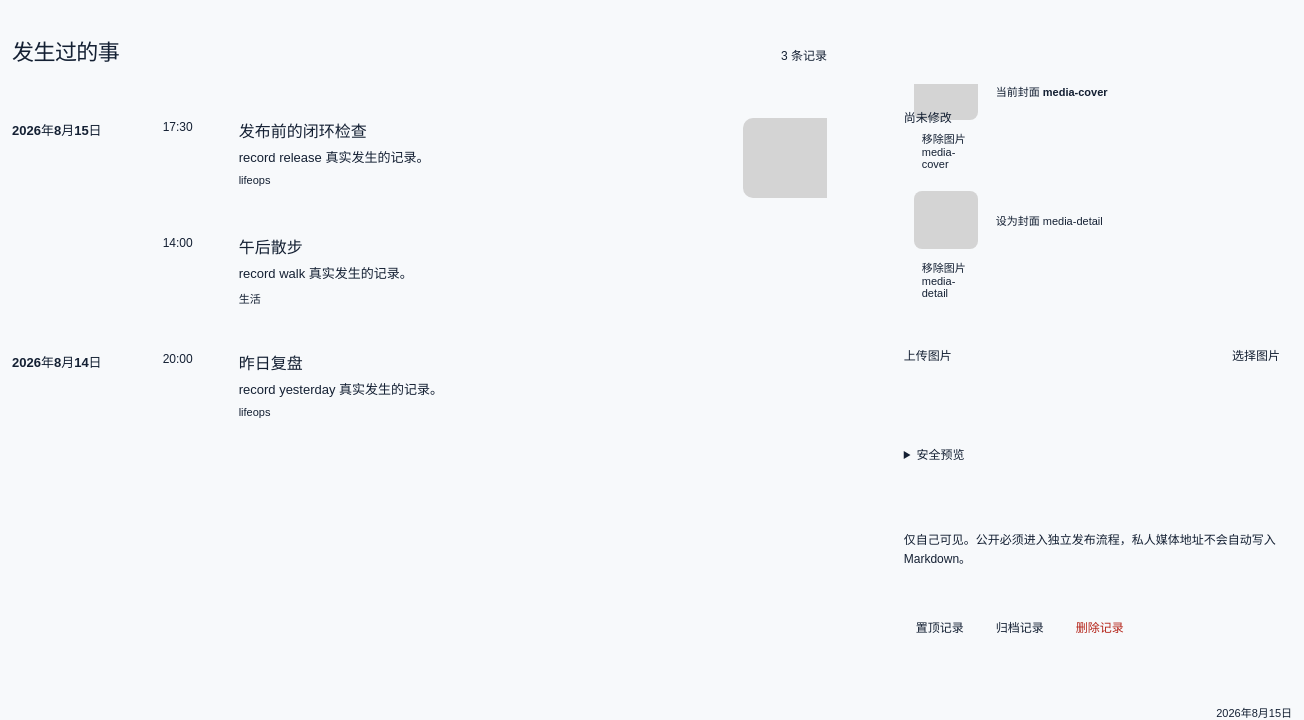
Test: RecordsPage › renders the native 8/4 date-grouped stream, selected editor, links and private cover truth
This screenshot has width=1304, height=720.
(page scrolled)
expect the element "2026年8月15日" shows "发布前的闭环检查": met, box [141,100,827,216]
expect the element "2026年8月15日" shows "午后散步": met, box [141,216,827,332]
Click the heading "安全预览" at (940, 455), box [916,448,964,462]
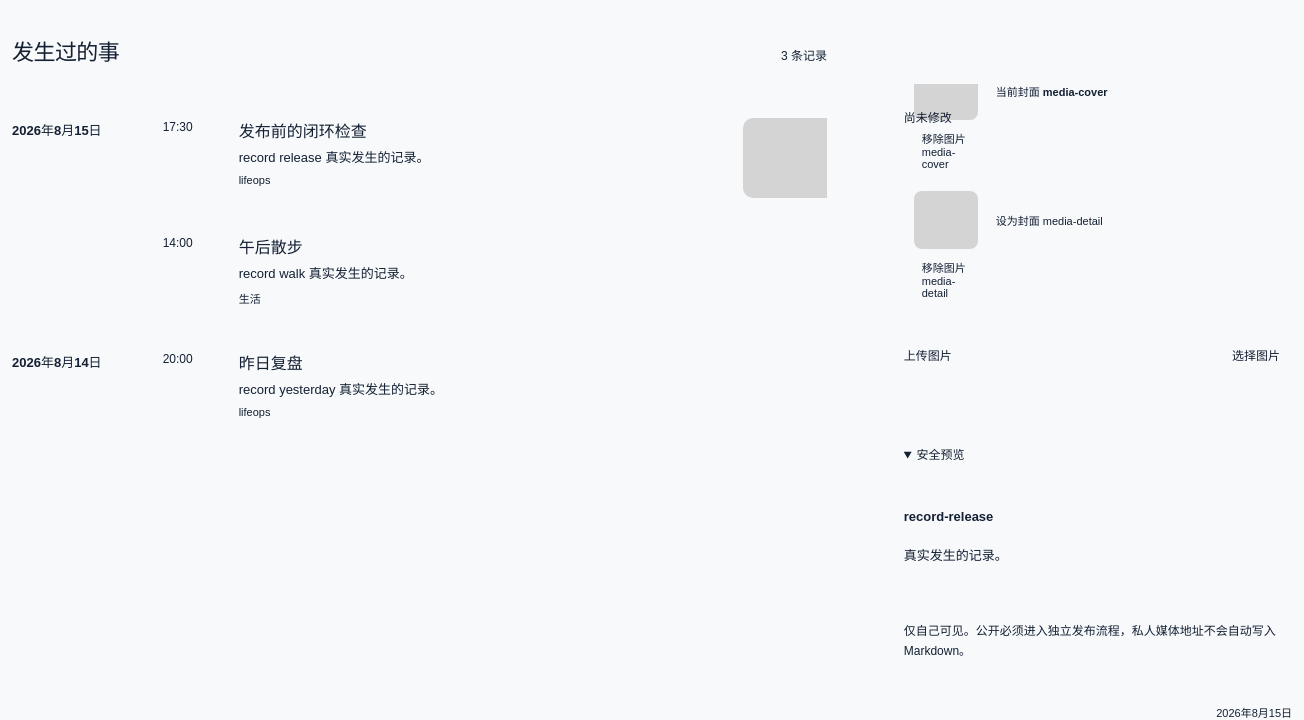
expect the element with class "record-editor__preview-content" is shown: met, box [904,509,1008,563]
